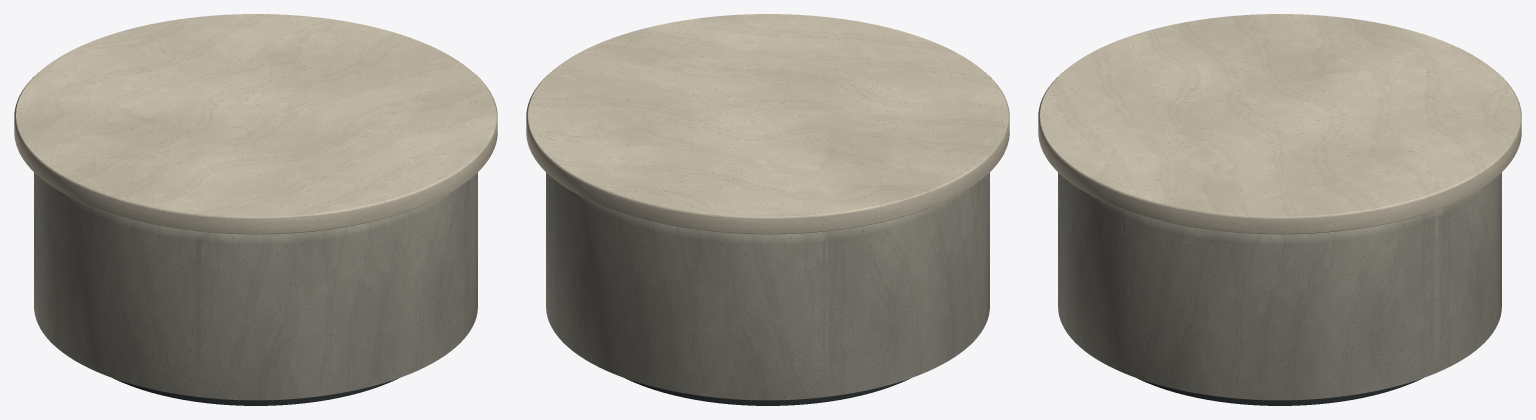
The picture shows the model from 3 angles, left to right: view 1: azimuth 30°, elevation 25°; view 2: azimuth 150°, elevation 25°; view 3: azimuth 270°, elevation 25°; orthographic projection.
Visible parts, largest first — view 1: Ivory stone drum top, Continuous sculpted concrete drum, Recessed graphite shadow plinth; view 2: Ivory stone drum top, Continuous sculpted concrete drum, Recessed graphite shadow plinth; view 3: Ivory stone drum top, Continuous sculpted concrete drum, Recessed graphite shadow plinth.
Boxes of the visible parts, x1,y1,x2,y2 form: Ivory stone drum top: (14, 14, 497, 234); Continuous sculpted concrete drum: (34, 172, 477, 400); Recessed graphite shadow plinth: (113, 378, 398, 405); Ivory stone drum top: (526, 14, 1009, 234); Continuous sculpted concrete drum: (546, 172, 989, 400); Recessed graphite shadow plinth: (625, 378, 910, 405); Ivory stone drum top: (1038, 14, 1521, 234); Continuous sculpted concrete drum: (1058, 172, 1501, 400); Recessed graphite shadow plinth: (1137, 378, 1422, 405).
Size of the model in its own units: 0.78 by 0.375 by 0.78.
4 materials, 2 textured.
